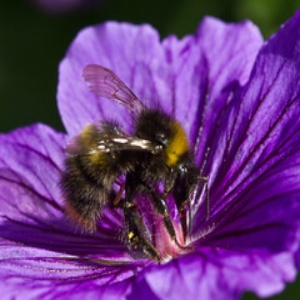bee: (55, 61, 218, 263)
